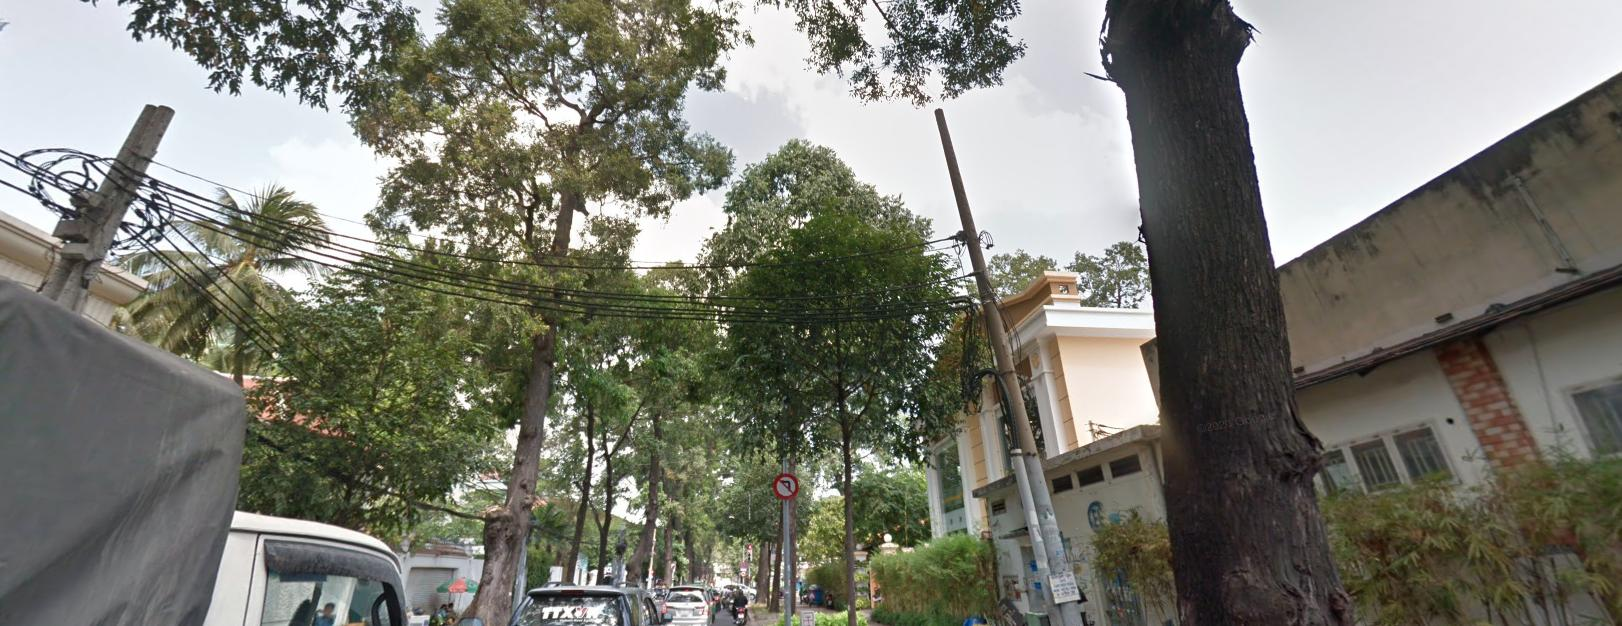Cam dung va do: (739, 562, 745, 567)
Cam re: (774, 473, 798, 497), (740, 570, 745, 575)
